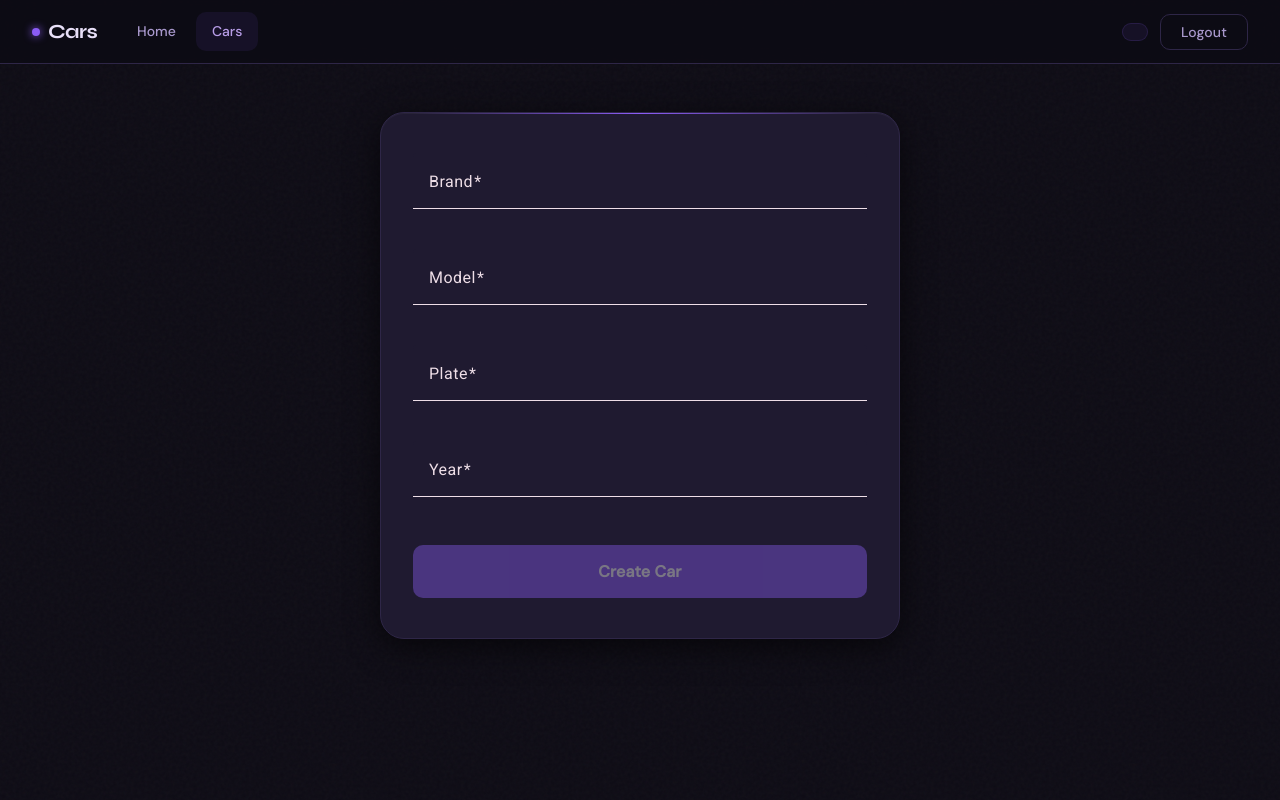
Test: Save Car › should show info on creating a car
Type "Toyota" into the field named "brand" at (640, 189), box [429,177,851,201]
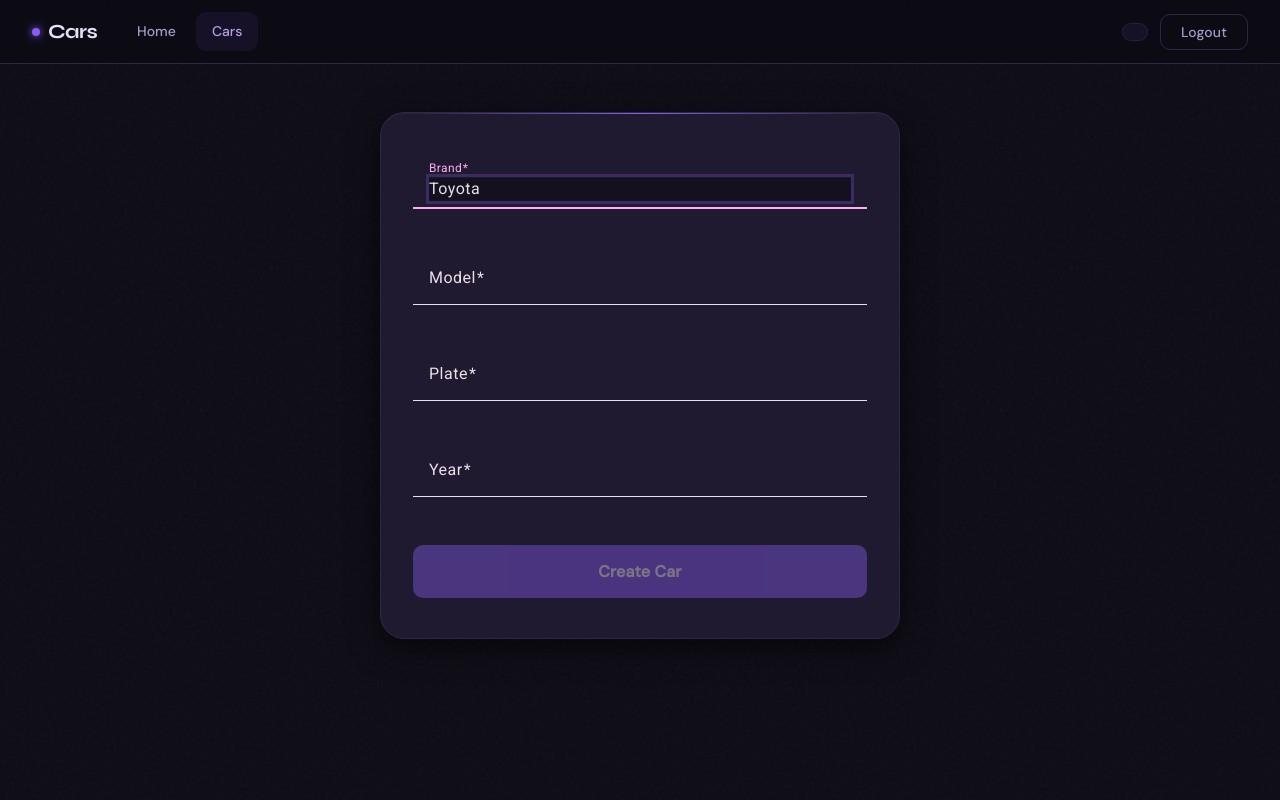
Type "Corolla" into the field named "model" at (640, 285), box [429,273,851,297]
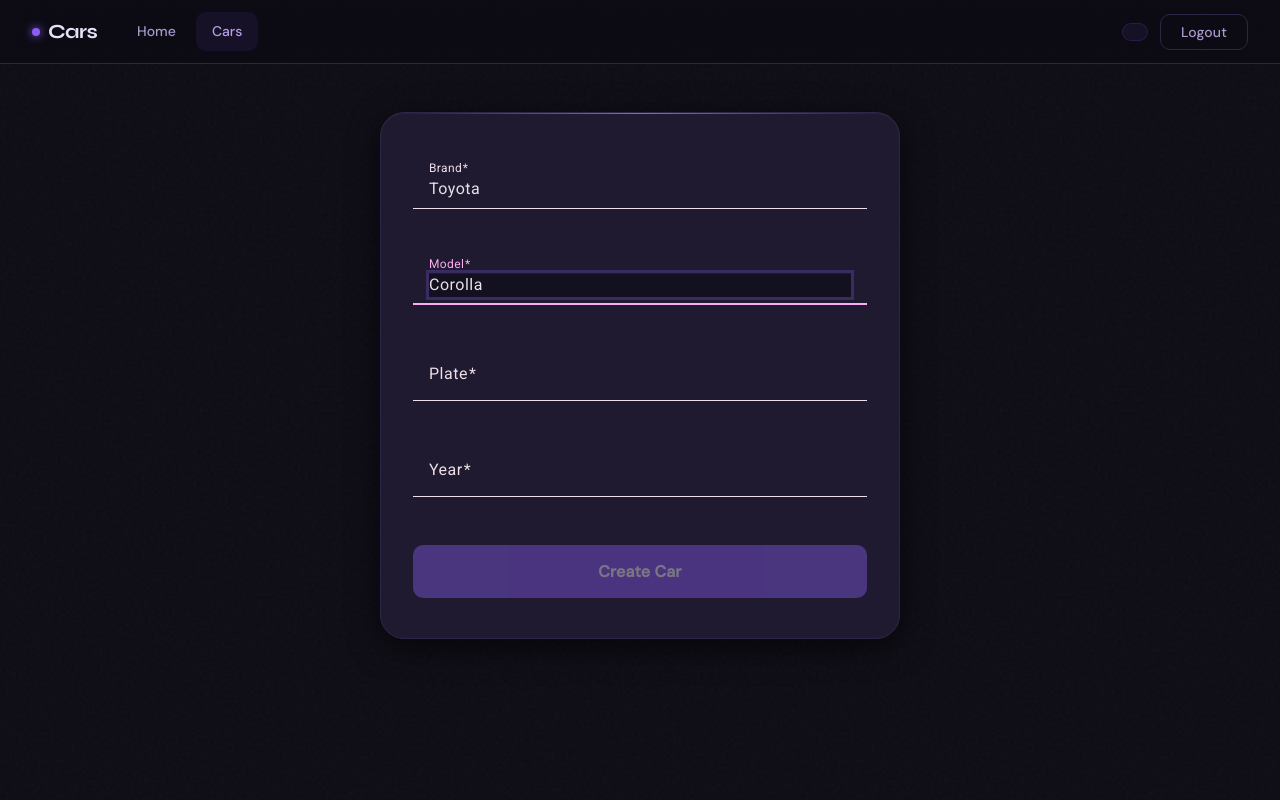
Type "2020" into the number field named "year" at (640, 477), box [429,465,851,489]
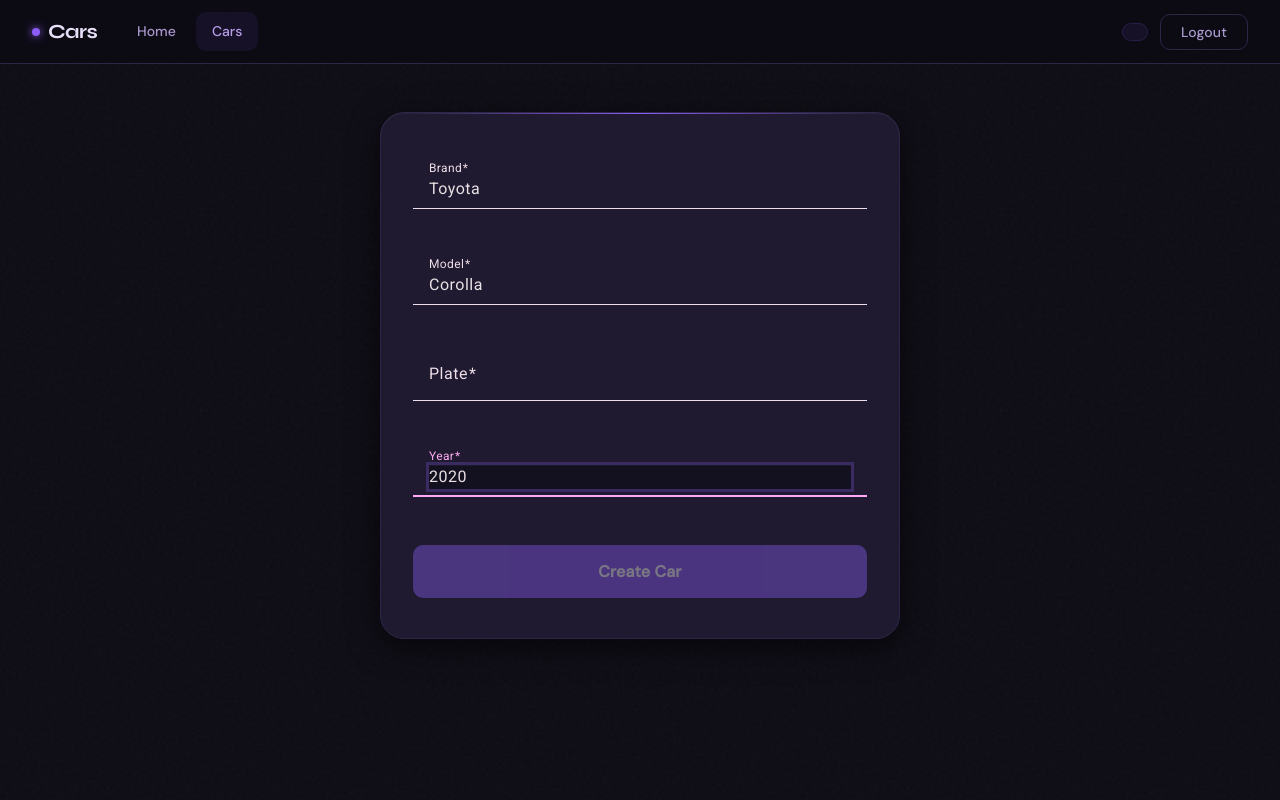
Type "ABC1234" into the field named "plate" at (640, 381), box [429,369,851,393]
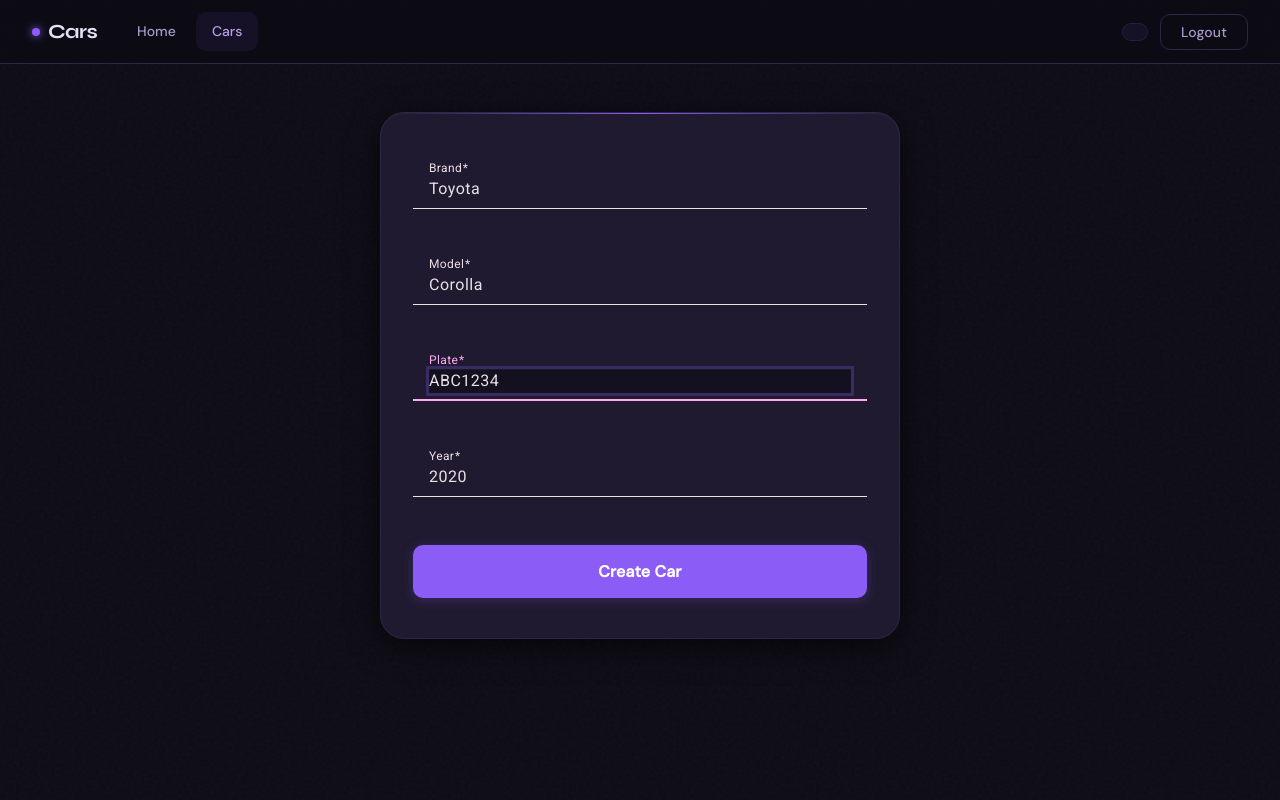
Click the submit button at (640, 572), box [413,545,867,598]
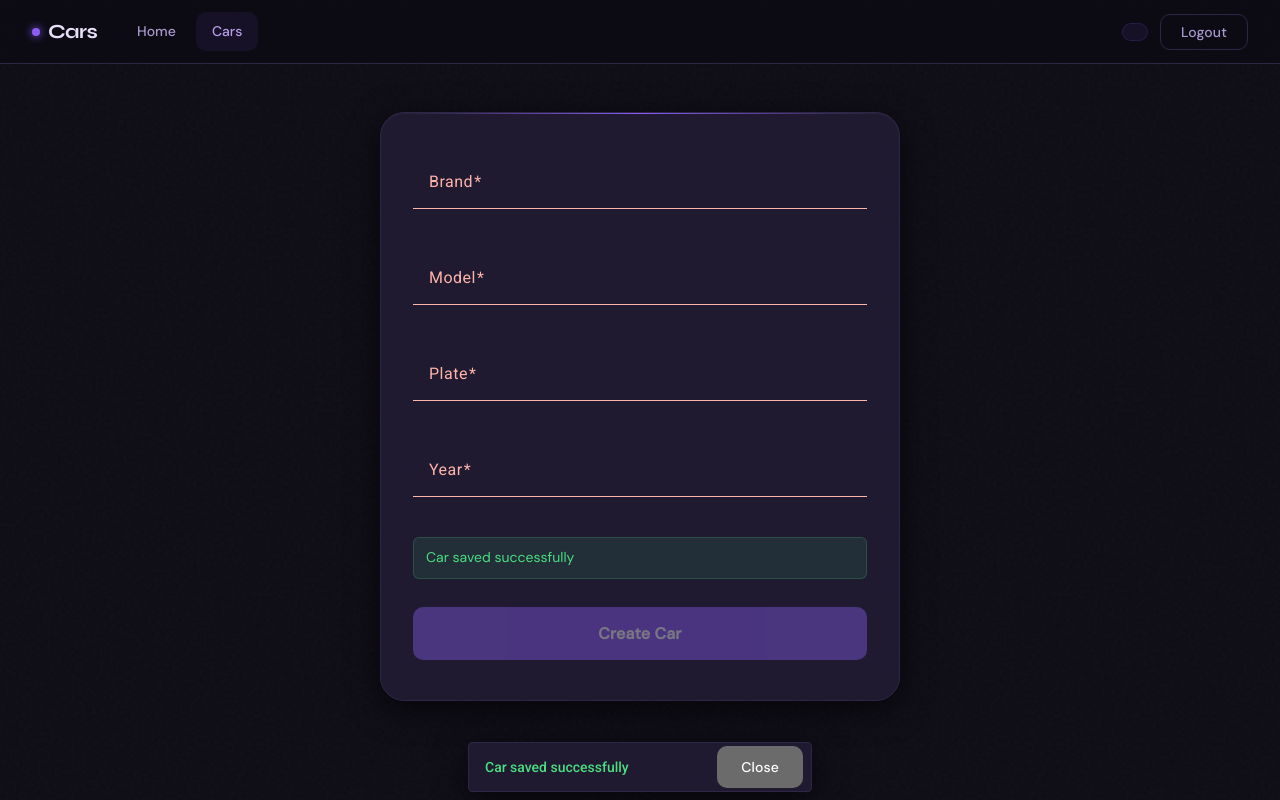
Now the 2nd text "Car saved successfully" is shown, box [485,759,629,775]
